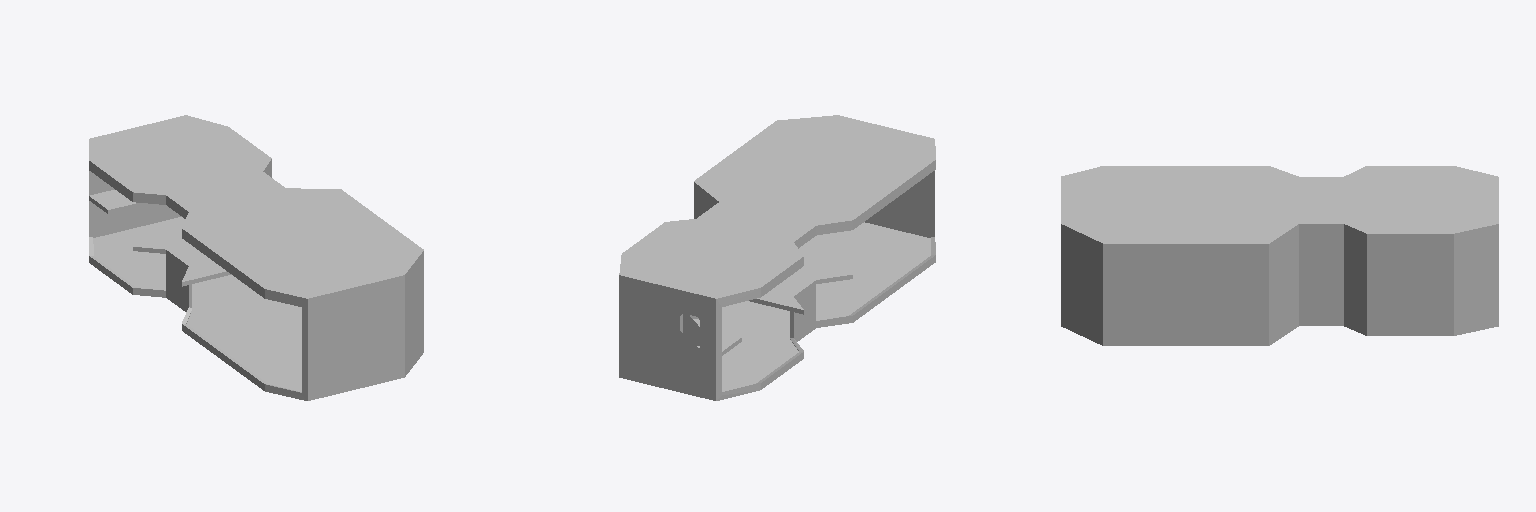
The model's file is Rooms_Cargo_Bay.obj.
3 renders of one model, left to right at view 1: azimuth 30°, elevation 25°; view 2: azimuth 150°, elevation 25°; view 3: azimuth 270°, elevation 25°, orthographic.
Visible parts, largest first — view 1: default; view 2: default; view 3: default.
Part boxes in pixels (bbox=[...]): default: bbox=[89, 115, 423, 400]; default: bbox=[619, 115, 935, 400]; default: bbox=[1061, 166, 1498, 345].
Size of the model in its own units: 127 by 78.14 by 302.